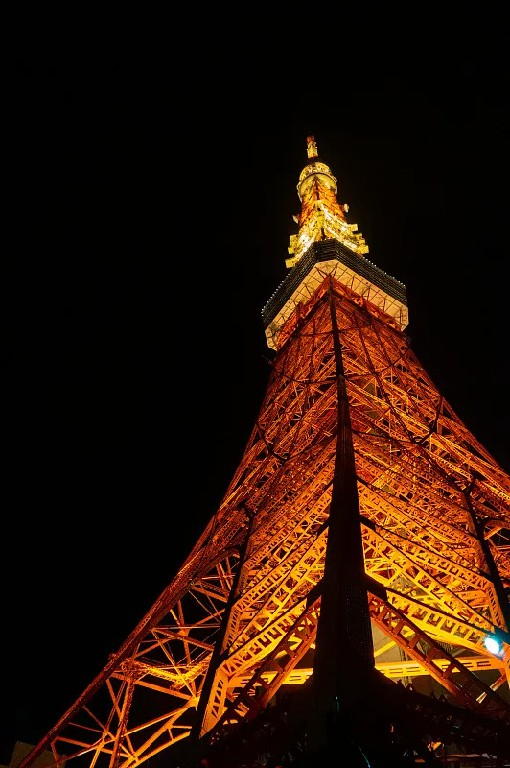Tokyo: (22, 129, 499, 766)
